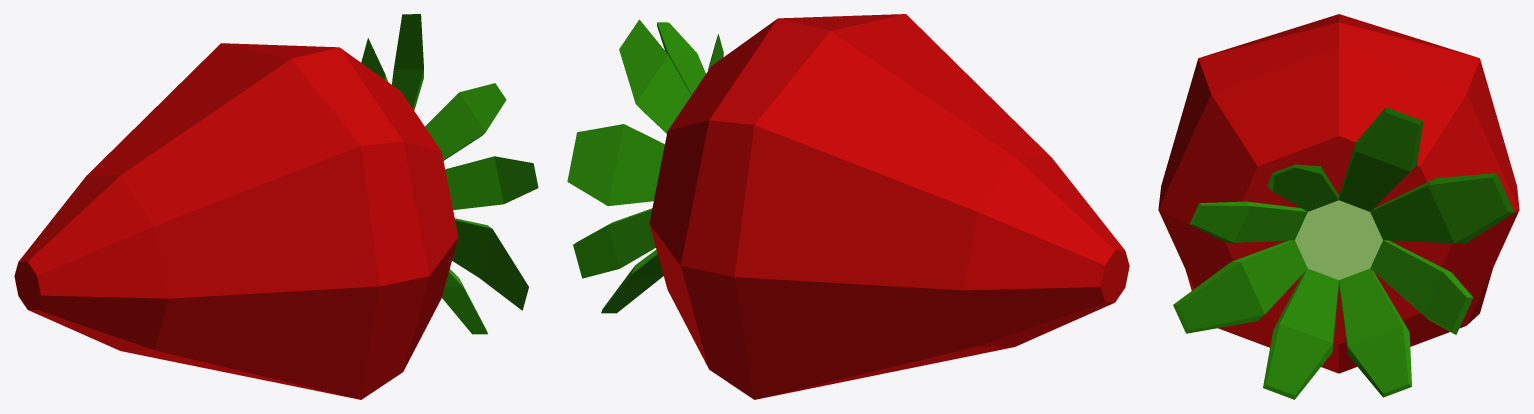
The model's file is strawberry01.gltf.
The picture shows the model from 3 angles, left to right: view 1: azimuth 30°, elevation 25°; view 2: azimuth 150°, elevation 25°; view 3: azimuth 270°, elevation 25°; orthographic projection. The views are drawn at different scales.
Parts seen in each view (by area): view 1: Cylinder.001; view 2: Cylinder.001; view 3: Cylinder.001.
Part boxes in pixels (<box>): Cylinder.001: <box>14,14,538,399</box>; Cylinder.001: <box>567,14,1129,399</box>; Cylinder.001: <box>1158,14,1519,399</box>.
Size of the model in its own units: 0.049 by 0.0343 by 0.0342.
1 material, 1 textured.
